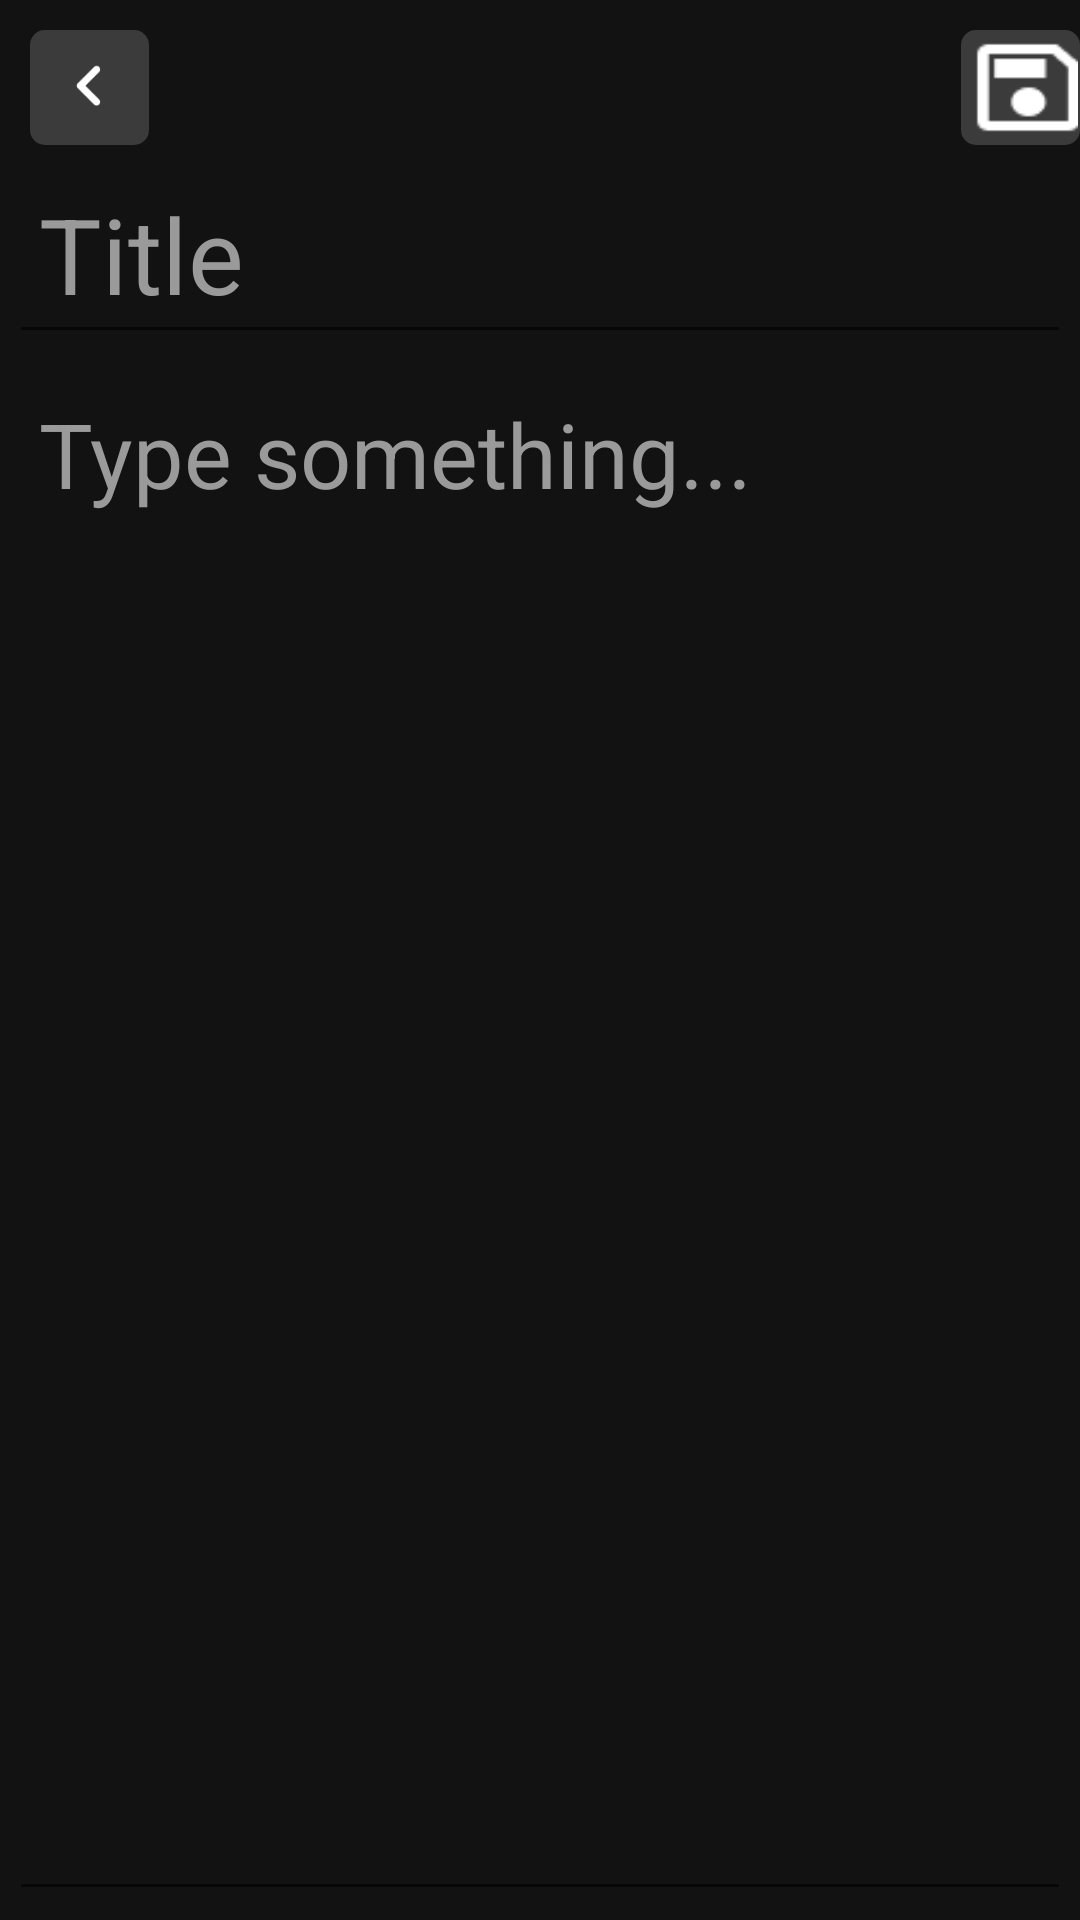

Locate icon controls on the screen. Image size 1080px×1920px, boxes as (x1, y1, x2, y2).
back: (30, 30, 149, 145)
save: (961, 30, 1080, 145)
